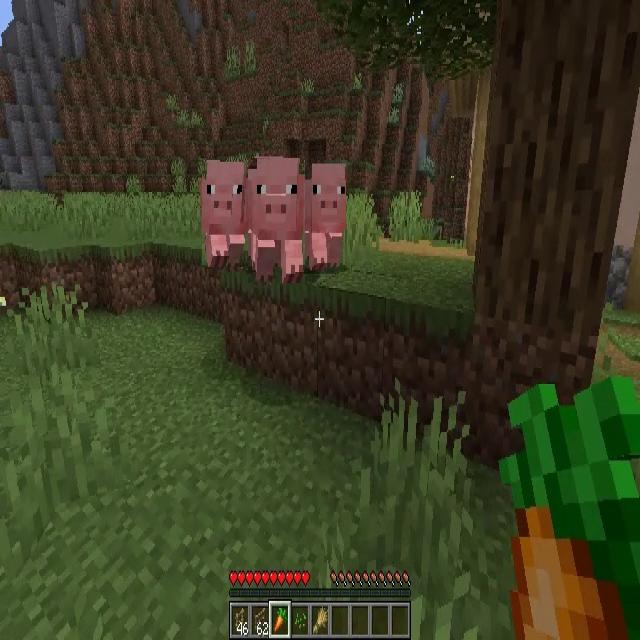pig: (248, 158, 305, 283), (202, 163, 249, 267), (301, 164, 344, 269)
